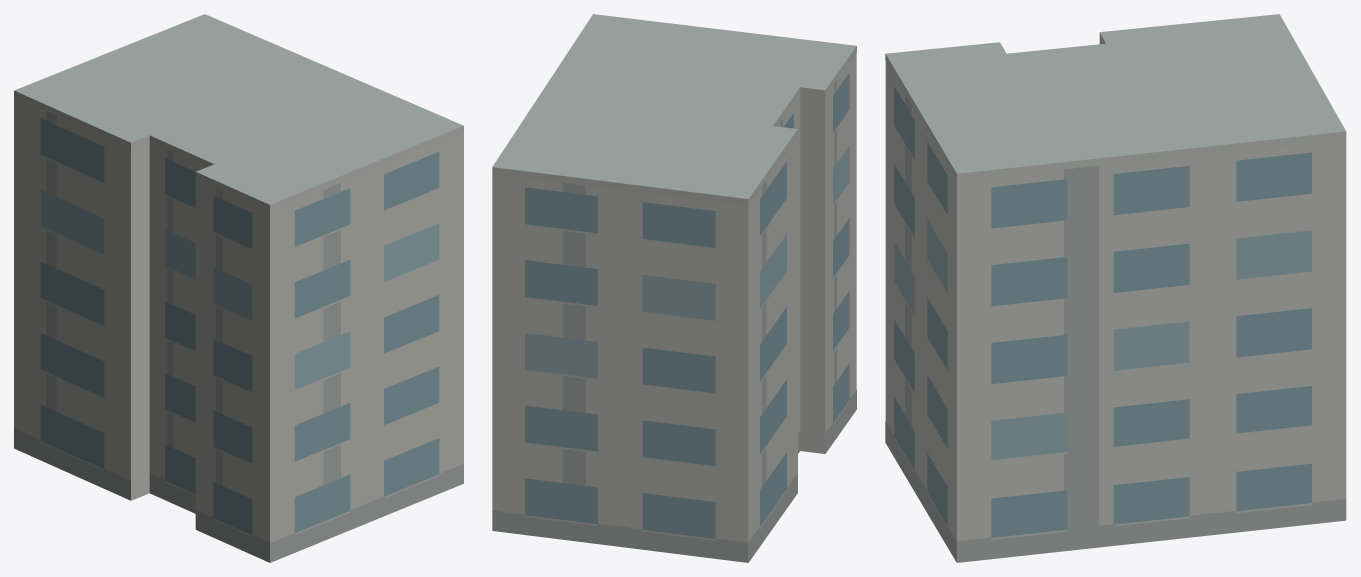
File: survey-upis-32722130.glb
3 renders of one model, left to right at view 1: azimuth 30°, elevation 25°; view 2: azimuth 150°, elevation 25°; view 3: azimuth 270°, elevation 25°, orthographic. The views are drawn at different scales.
Visible parts, largest first — view 1: survey-upis-32722130.tmp; view 2: survey-upis-32722130.tmp; view 3: survey-upis-32722130.tmp.
Boxes of the visible parts, x1,y1,x2,y2 form: survey-upis-32722130.tmp: (14,14,463,562); survey-upis-32722130.tmp: (492,14,856,562); survey-upis-32722130.tmp: (885,14,1346,562).
Size of the model in its own units: 11.55 by 13.1 by 14.07.
